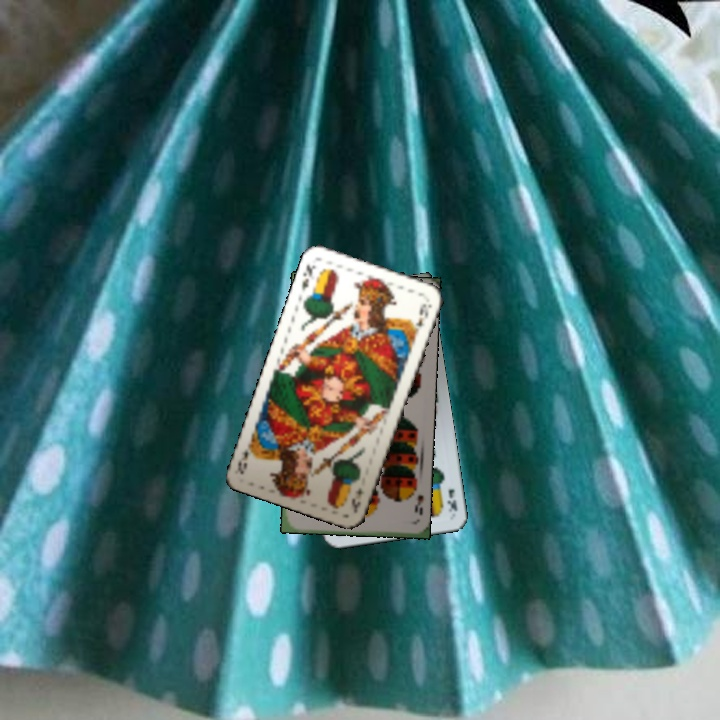EK: (298, 260, 318, 293), (347, 483, 366, 515), (443, 484, 459, 514)
S9: (407, 481, 426, 518)
